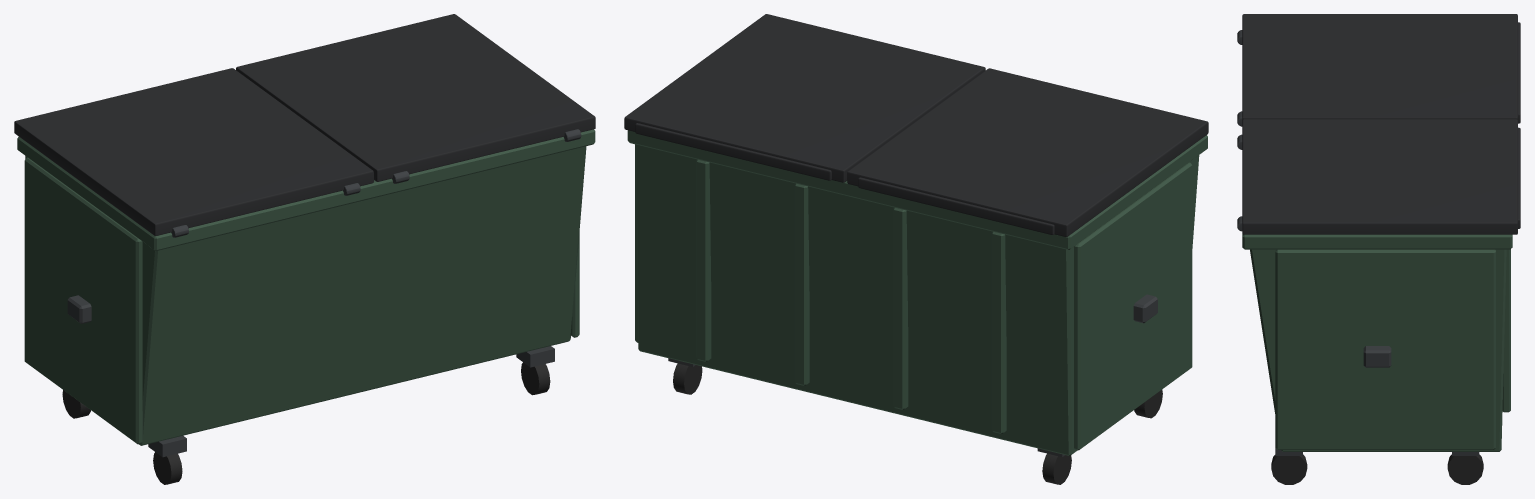
File: prop_dumpster_d094.glb
The picture shows the model from 3 angles, left to right: view 1: azimuth 30°, elevation 25°; view 2: azimuth 150°, elevation 25°; view 3: azimuth 270°, elevation 25°; orthographic projection. The views are drawn at different scales.
Parts seen in each view (by area): view 1: Body, LidMesh; view 2: Body, LidMesh; view 3: LidMesh, Body.
Boxes of the visible parts, x1,y1,x2,y2 form: Body: [17, 129, 595, 484]; LidMesh: [14, 14, 595, 237]; Body: [627, 130, 1207, 484]; LidMesh: [624, 14, 1208, 236]; LidMesh: [1237, 14, 1520, 234]; Body: [1242, 233, 1512, 484].
Size of the model in its own units: 1.9 by 1.11 by 1.03.
